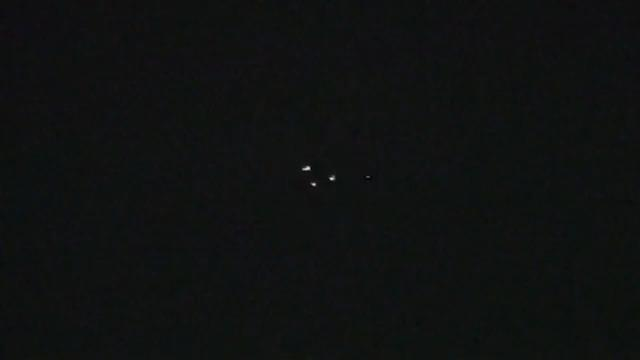Plane: (286, 158, 339, 194)
